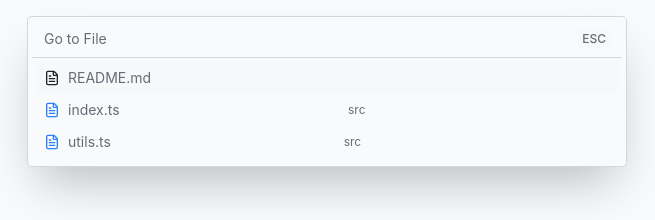
Test case: quick-open › 結果が0件のとき 'No matching files' が表示される
The width and height of the screenshot is (655, 220).
Type "zzzzz" into the field with placeholder "Go to File" at (307, 39), box [44, 29, 570, 49]
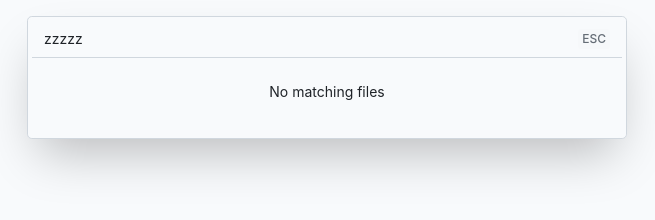
Now the text "No matching files" is shown, box [269, 83, 385, 100]
